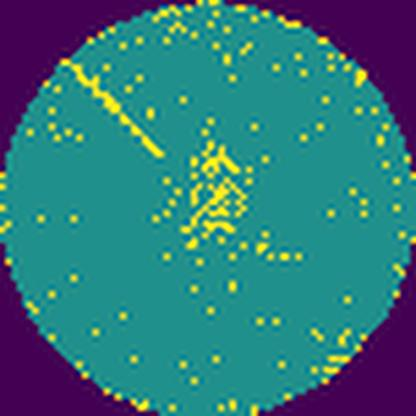Scratch: (66, 60, 176, 167)
